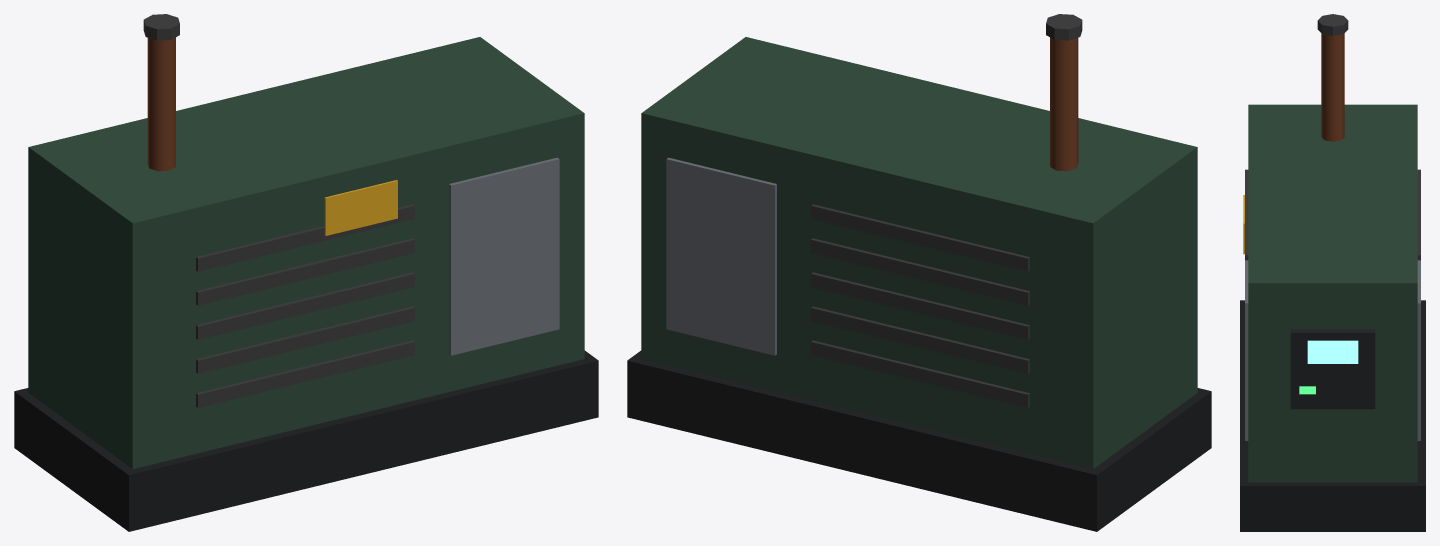
Rendered from generator.glb.
The picture shows the model from 3 angles, left to right: view 1: azimuth 30°, elevation 25°; view 2: azimuth 150°, elevation 25°; view 3: azimuth 270°, elevation 25°; orthographic projection. The views are drawn at different scales.
Parts seen in each view (by area): view 1: generator; view 2: generator; view 3: generator.
Boxes of the visible parts, bbox=[...] form: generator: bbox=[14, 14, 598, 531]; generator: bbox=[627, 14, 1211, 531]; generator: bbox=[1240, 14, 1425, 531].
Size of the model in its own units: 2.61 by 2.36 by 1.1.
1 material, 1 textured.
